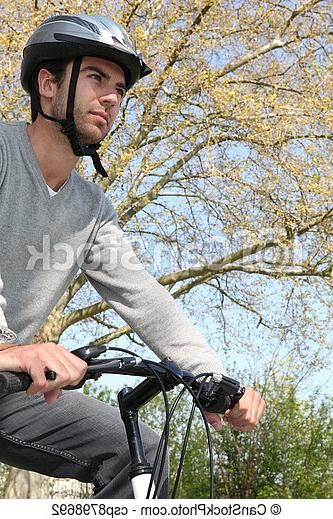Helmet: (22, 15, 147, 92)
